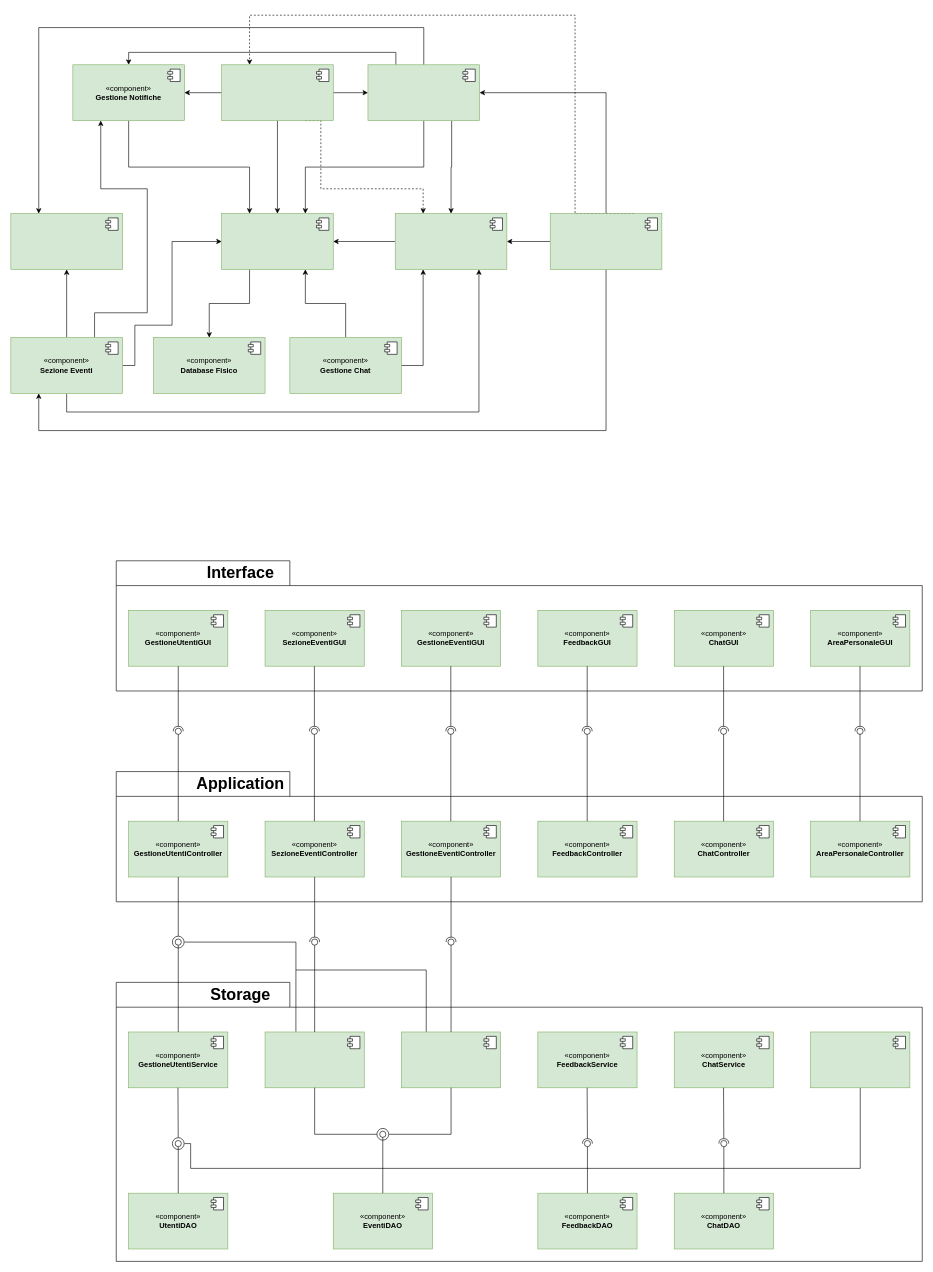
Image size: 933x1272. Some labels were removed from this diagram. The shapes that lost their labels are listed below. From the top down, each one's centre as x and y in pixels, then its label:
At (277,92): "«component» Sistema di Feedback".
At (423,92): "«component» Gestione Eventi".
At (66,241): "«component» Servizi Geografici".
At (277,241): "«component» Storage JPA".
At (451,241): "«component» Gestione Utenti e Sicurezza".
At (606,241): "«component» Area Personale".
At (314,1059): "«component» SezioneEventiService".
At (451,1059): "«component» GestioneEventiService".
At (860,1059): "«component» AreaPersonaleService".
